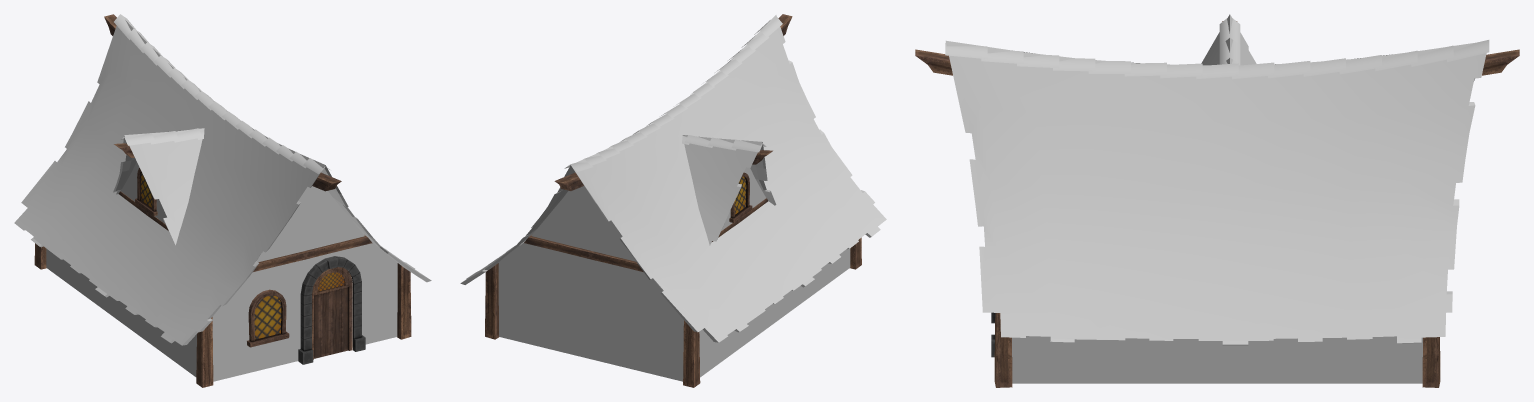
File: A_House_03.FBX
3 views of the same model, side by side, from view 1: azimuth 30°, elevation 25°; view 2: azimuth 150°, elevation 25°; view 3: azimuth 270°, elevation 25° (orthographic). The views are drawn at different scales.
Parts seen in each view (by area): view 1: House_03; view 2: House_03; view 3: House_03.
Part boxes in pixels (x1,y1,x2,y2): House_03: (14,14,431,387); House_03: (460,14,886,387); House_03: (915,14,1519,387).
Bounding box in the file's own units: 593 × 899 × 461.
